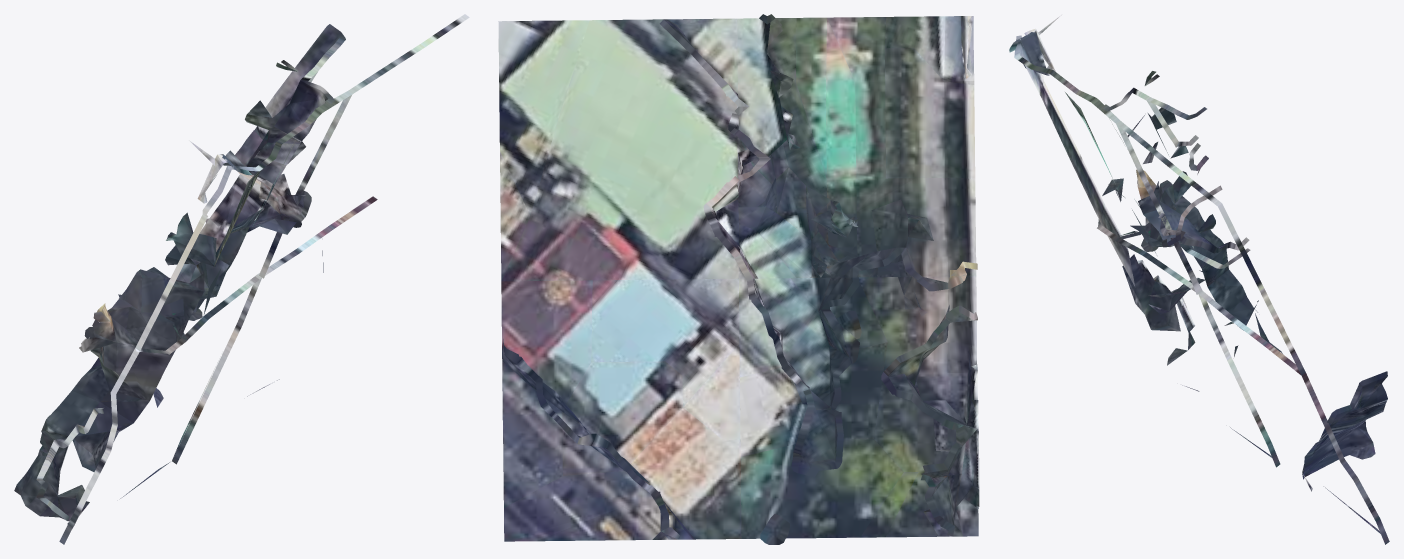
3 views of the same model, side by side, from view 1: azimuth 30°, elevation 25°; view 2: azimuth 150°, elevation 25°; view 3: azimuth 270°, elevation 25° (orthographic). The views are drawn at different scales.
Size of the model in its own units: 39.54 by 37.7 by 31.15.
1 material, 1 textured.
